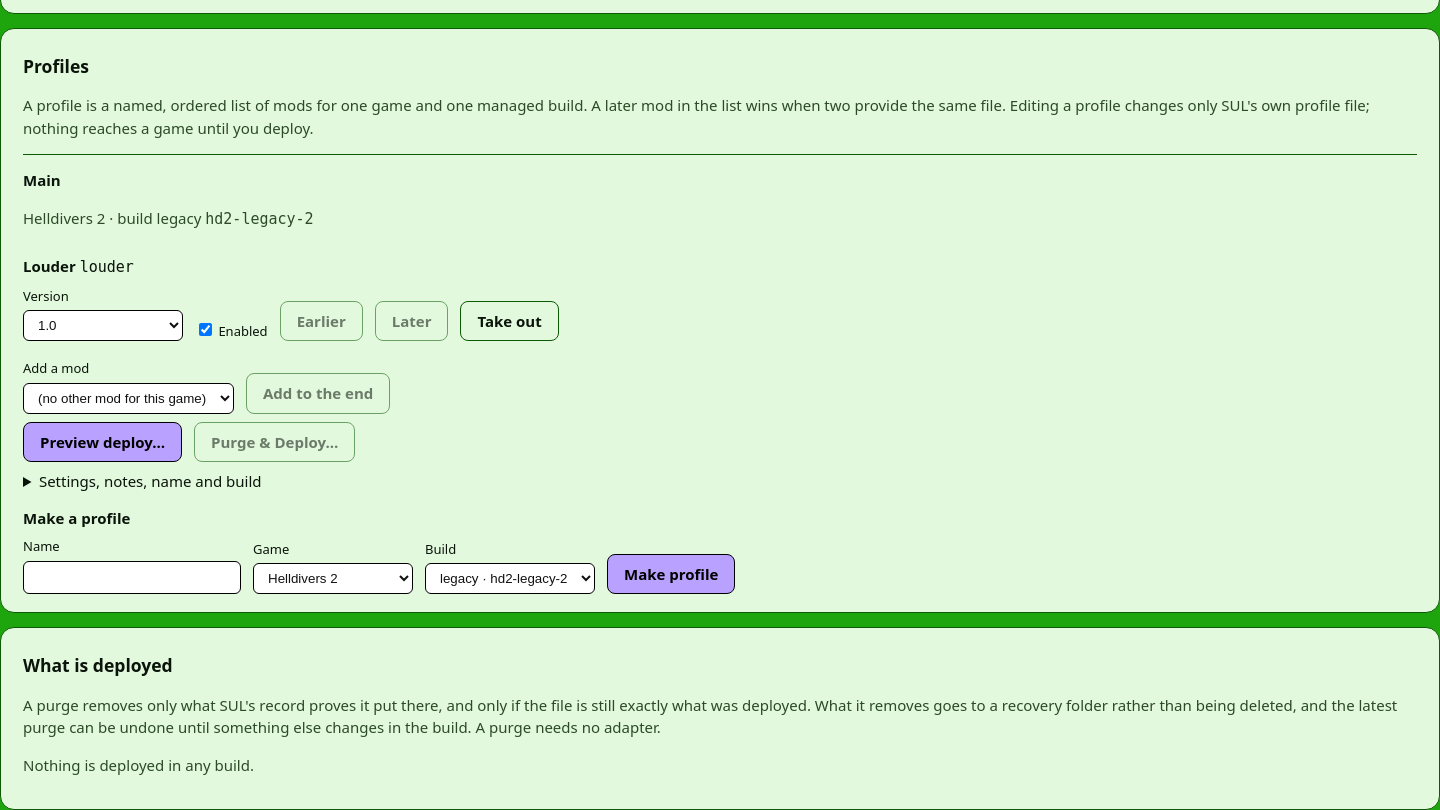
Scenario: deploy, purge and undo ask before they change anything › Preview deploy shows the files and changes nothing; Cancel sends nothing; Deploy sends one deploy and reports it
Later steps or results of the test are not shown.
(page scrolled)
Click the button "Preview deploy…". click: coordinates (103, 442)
box: [23,422,182,462]
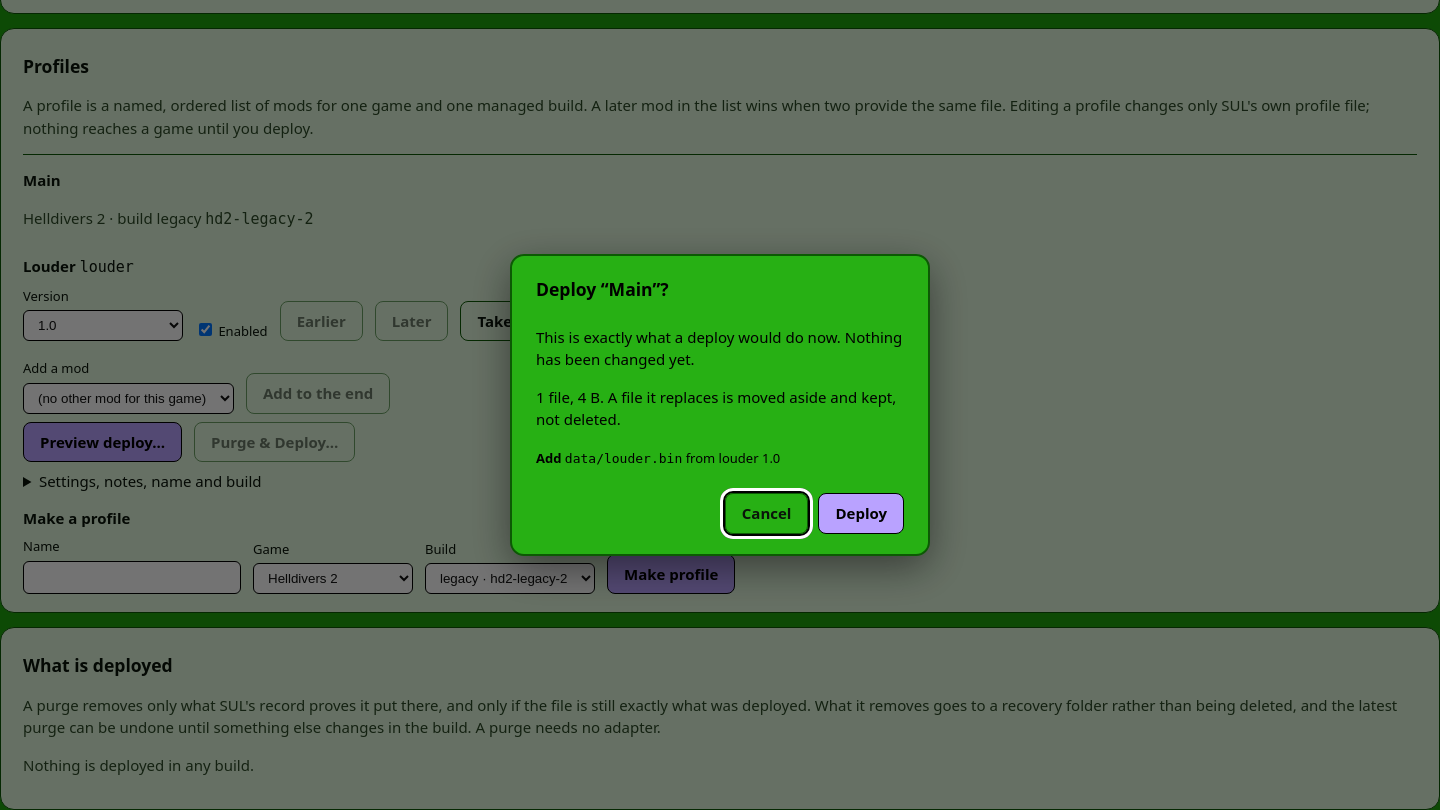
Expected: the dialog shows "This is exactly what a deploy would do now. Nothing has been changed yet", [536,327,902,369]
Expected: the dialog shows "1 file, 4 B. A file it replaces is moved aside and kept, not deleted", [510,254,930,556]
